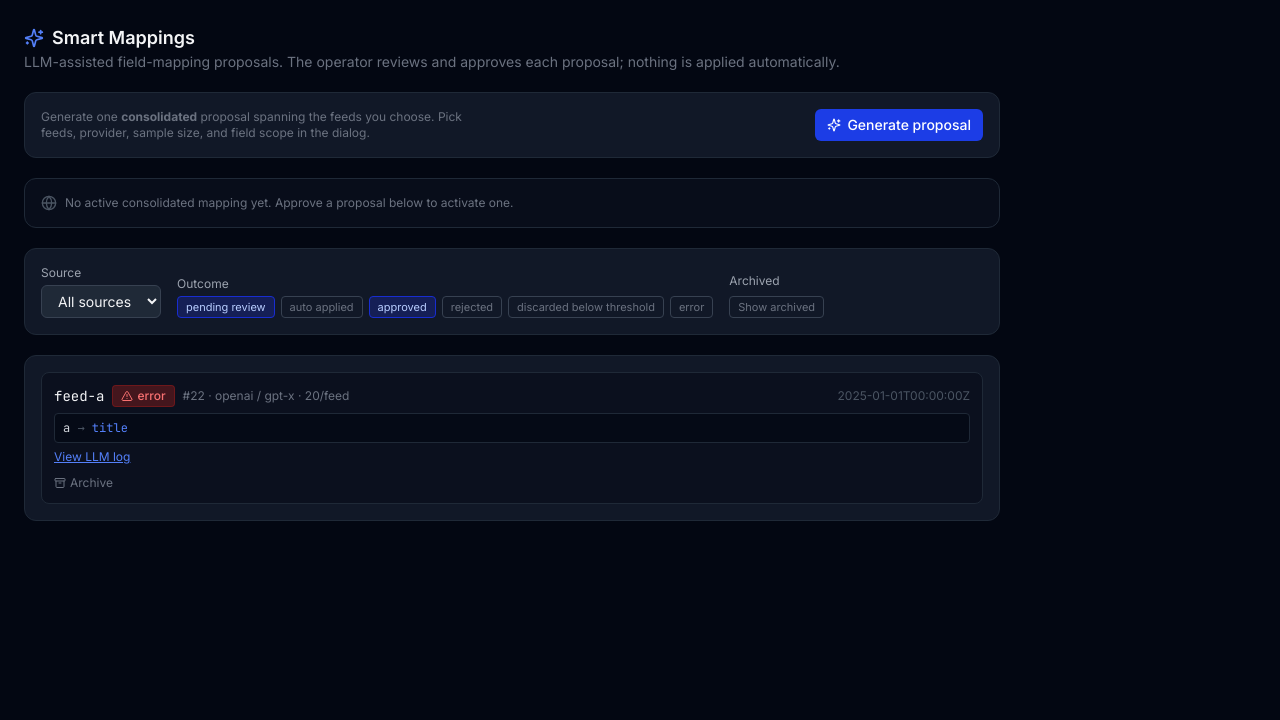
Test: SmartMappings page — error-log popup › exposes a View LLM log link on error rows that still parsed a mapping
Click the button "View LLM log". click: (92, 457)
box: [54,449,130,465]
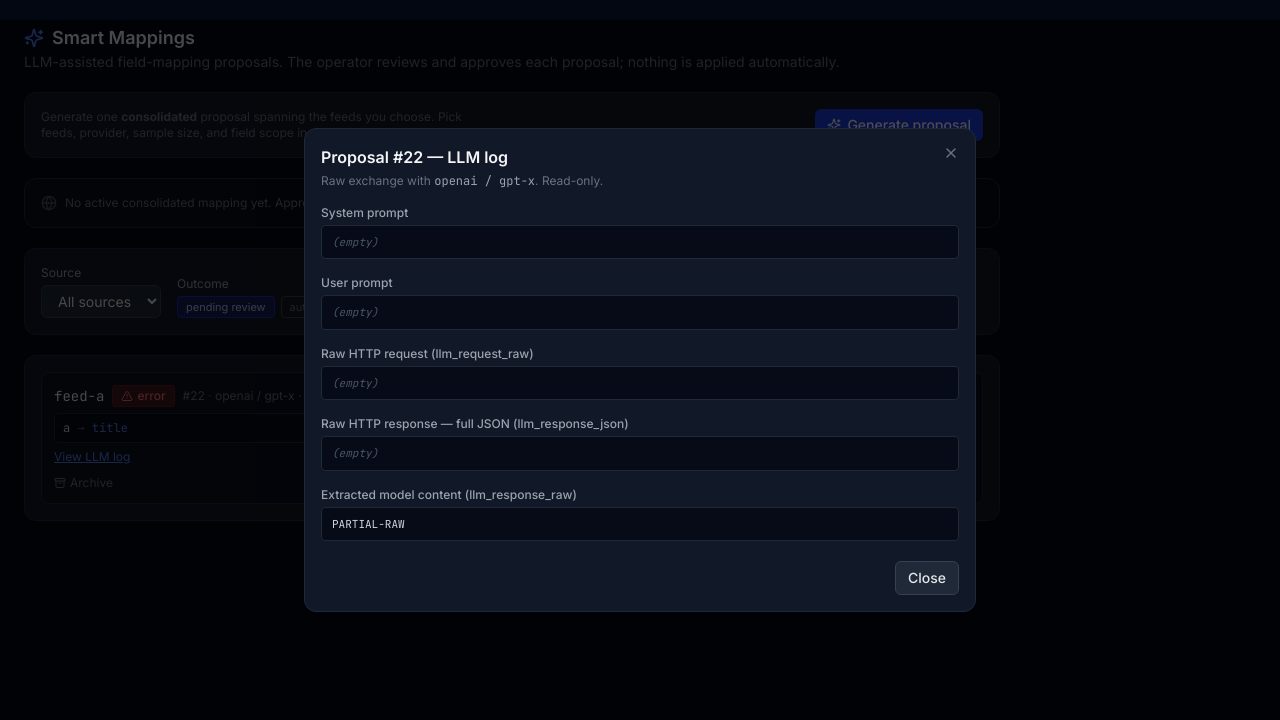
Check: the dialog shows "PARTIAL-RAW", box [332,517,405,531]
